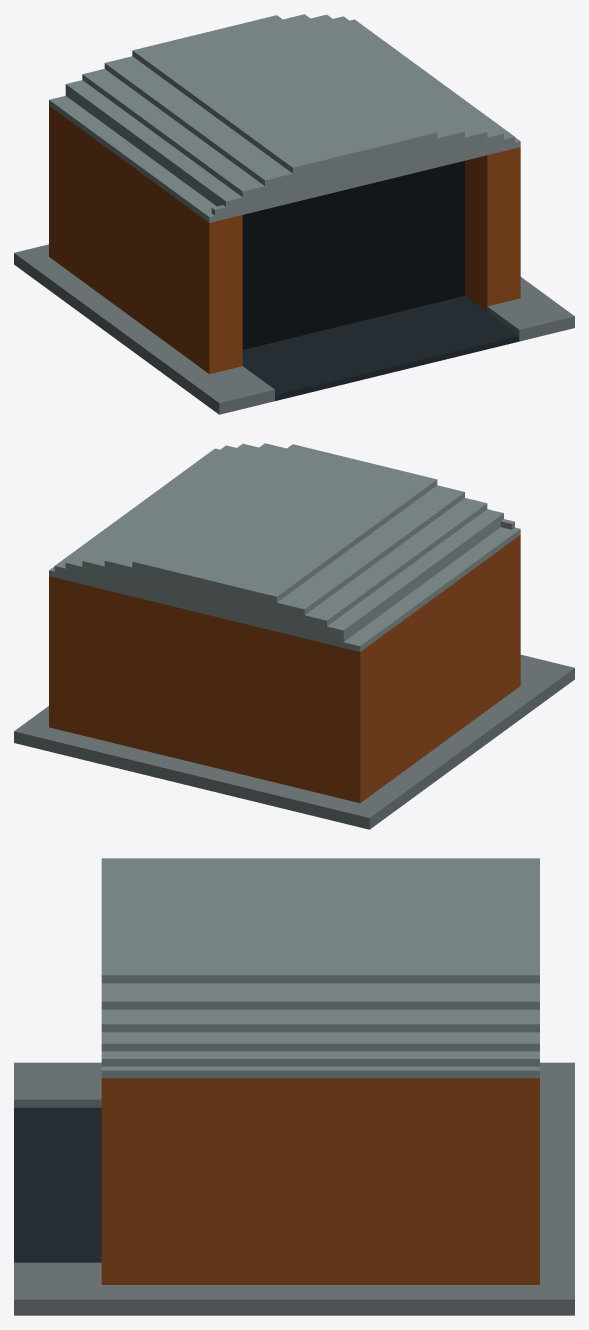
Rendered from TruckSpawn.obj.
3 renders of one model, top to bottom at view 1: azimuth 30°, elevation 25°; view 2: azimuth 150°, elevation 25°; view 3: azimuth 270°, elevation 25°, orthographic. The views are drawn at different scales.
Size of the model in its own units: 6.4 by 3.4 by 6.4.
1 material, 1 textured.
